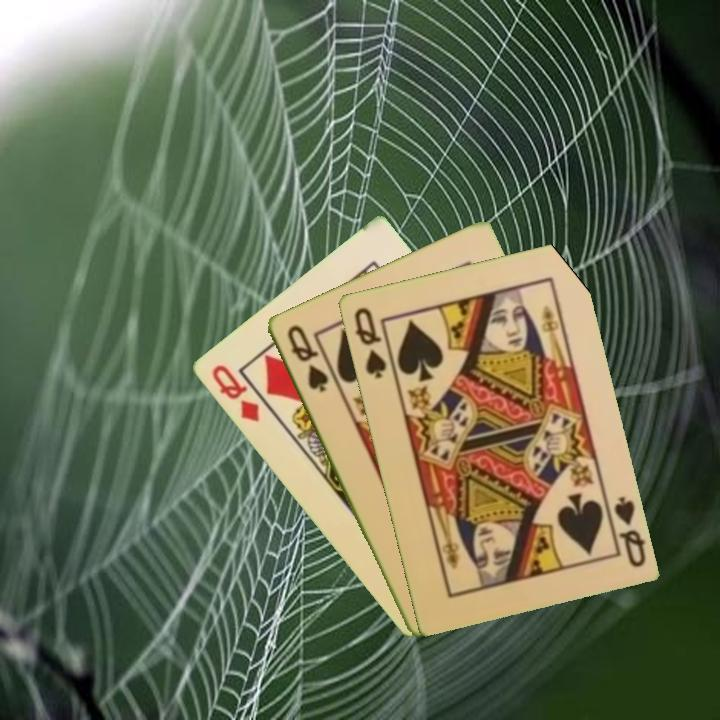Qd: (207, 360, 262, 425)
Qs: (283, 321, 331, 395), (350, 303, 389, 381), (609, 492, 648, 570)
